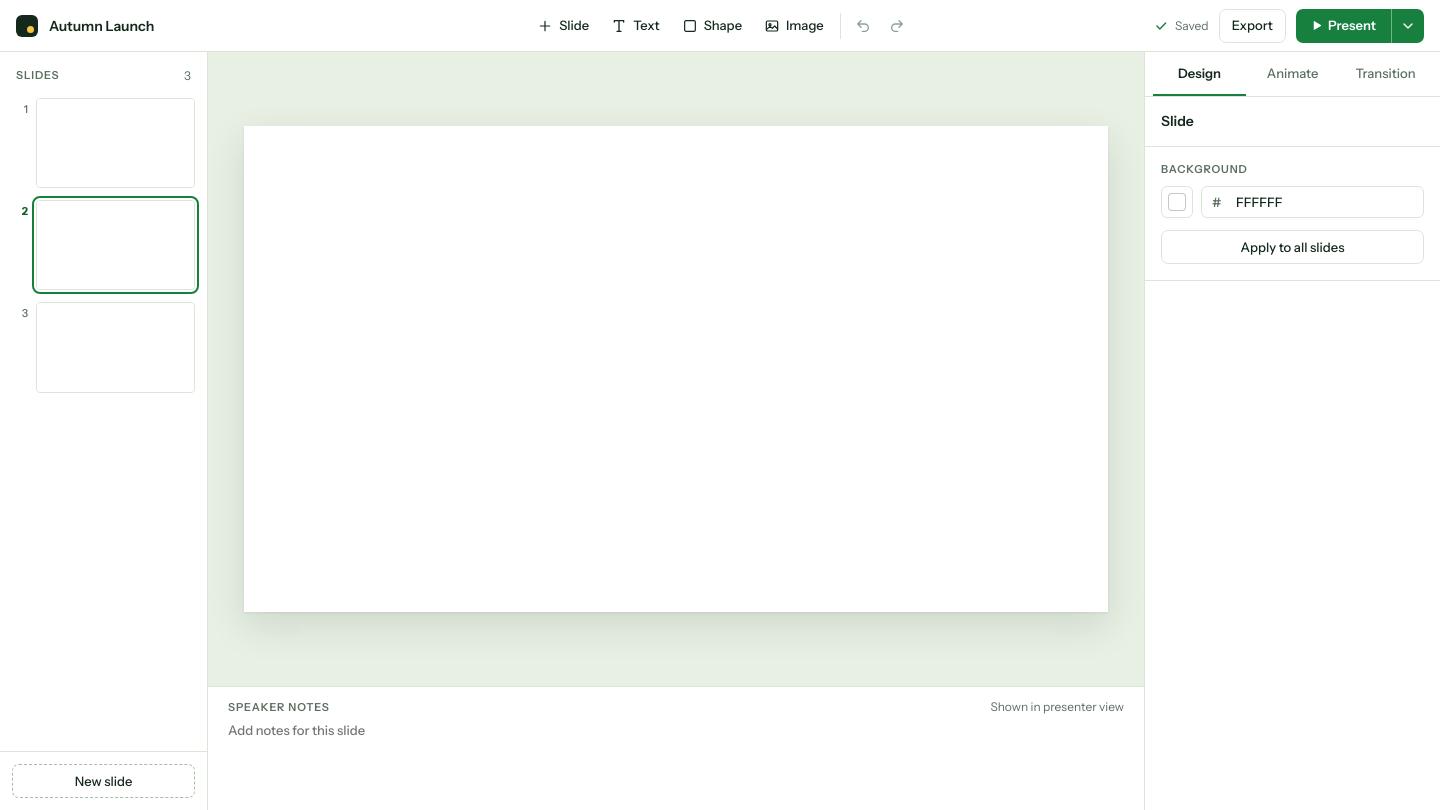
Given a title still being saved, When Present is pressed, Then the deck is on disk before the window opens
Expected: the option named "Slide 1" is shown, [12,98,195,188]
Replace the text in the field named "Deck title" with "Pitch v2" at (220, 26), box [40,10,400,40]
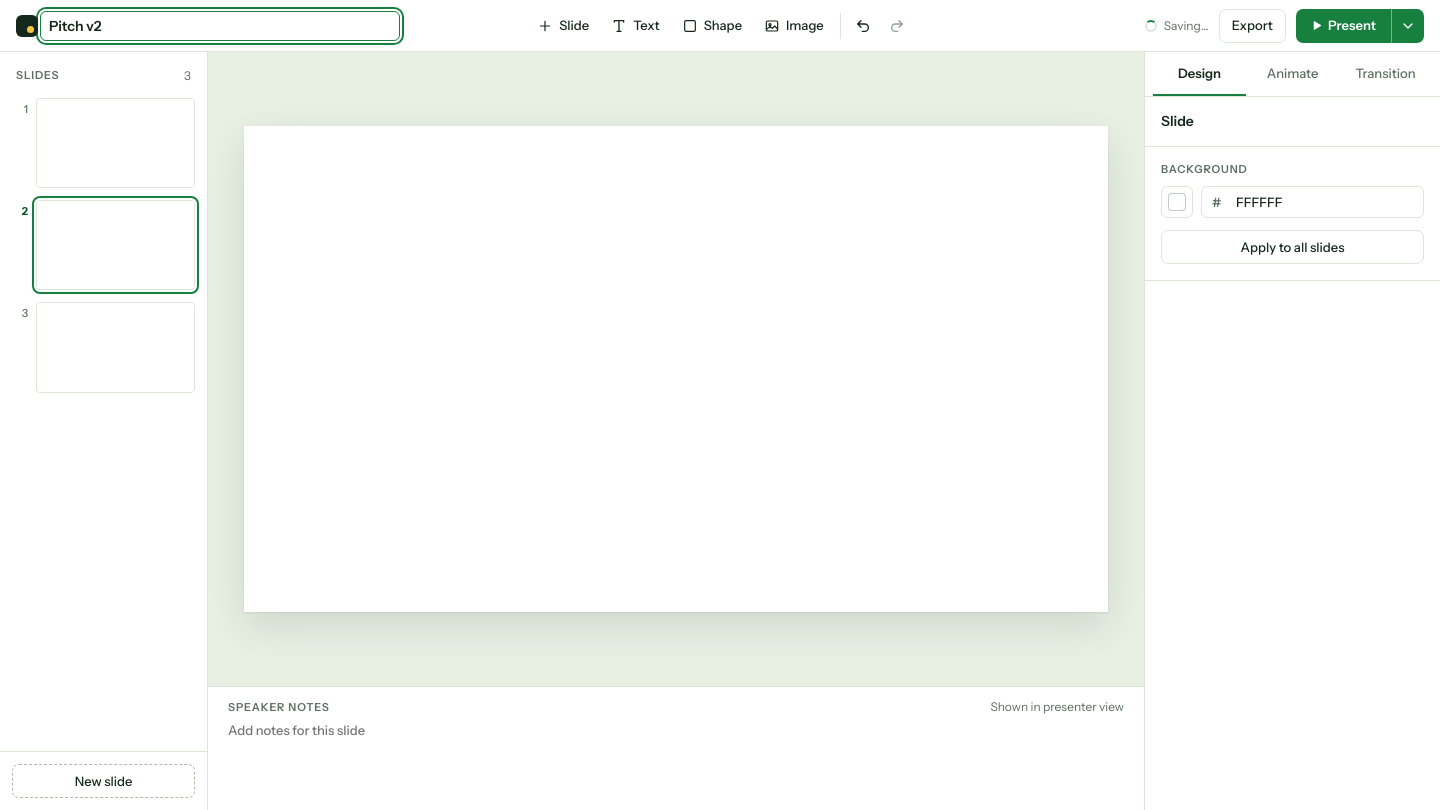
Click the button "Present".
click(1343, 26)  # box [1296,8,1391,42]
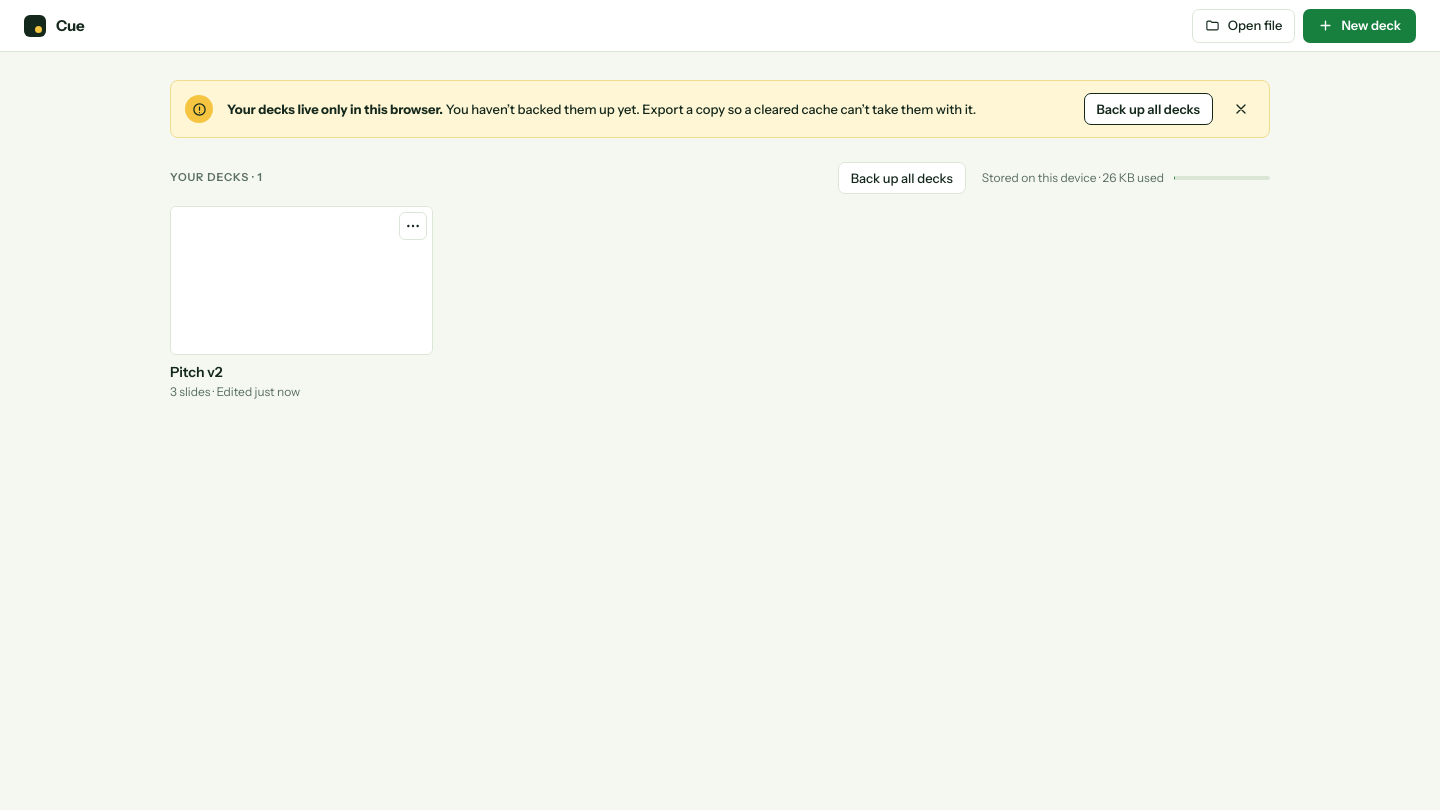
Result: the text "Pitch v2" is shown at [170,363,222,381]
